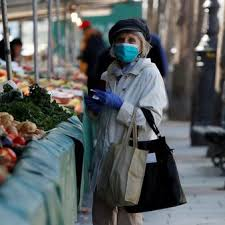mask: (110, 26, 141, 62)
